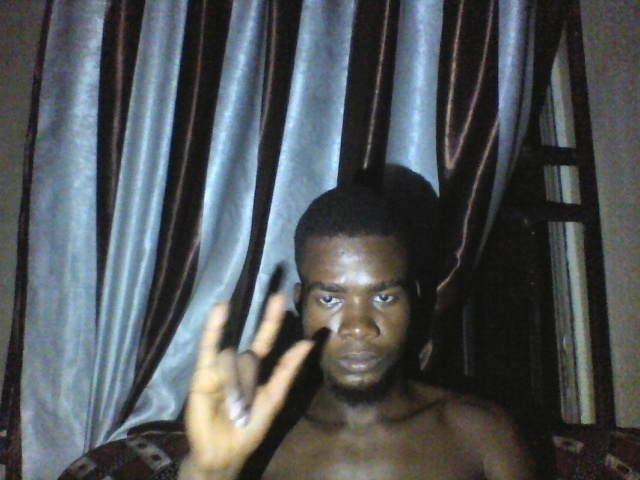i love you: (182, 290, 318, 467)
